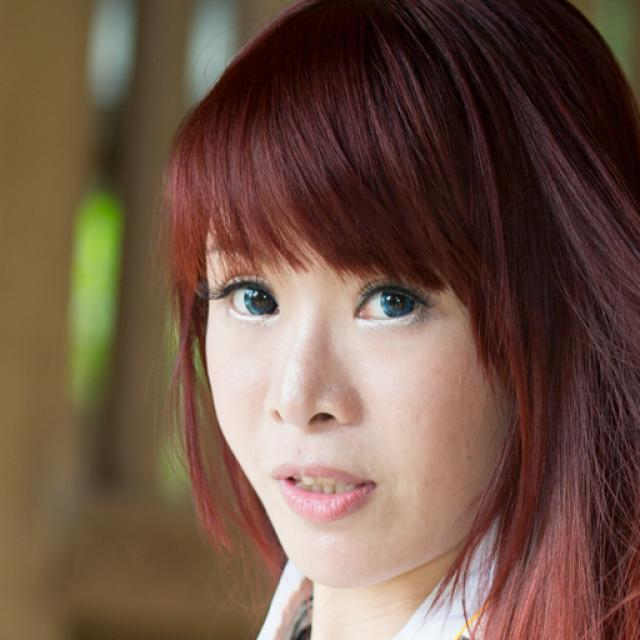surprise: (202, 113, 512, 586)
